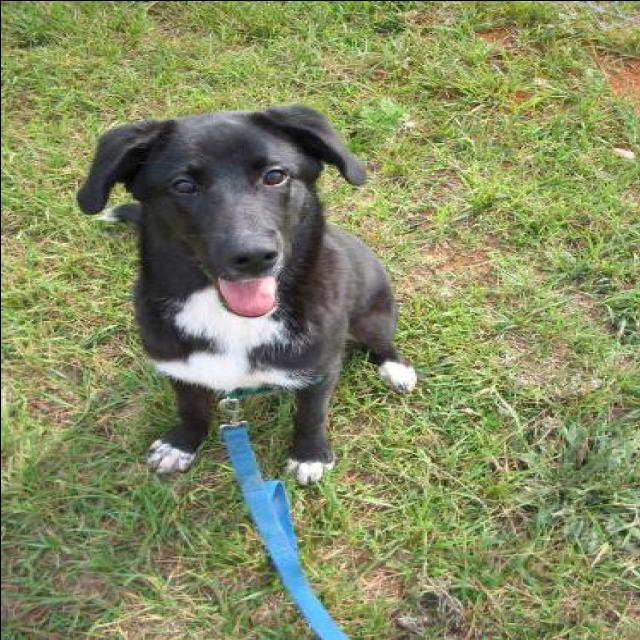dog: (65, 83, 429, 489)
